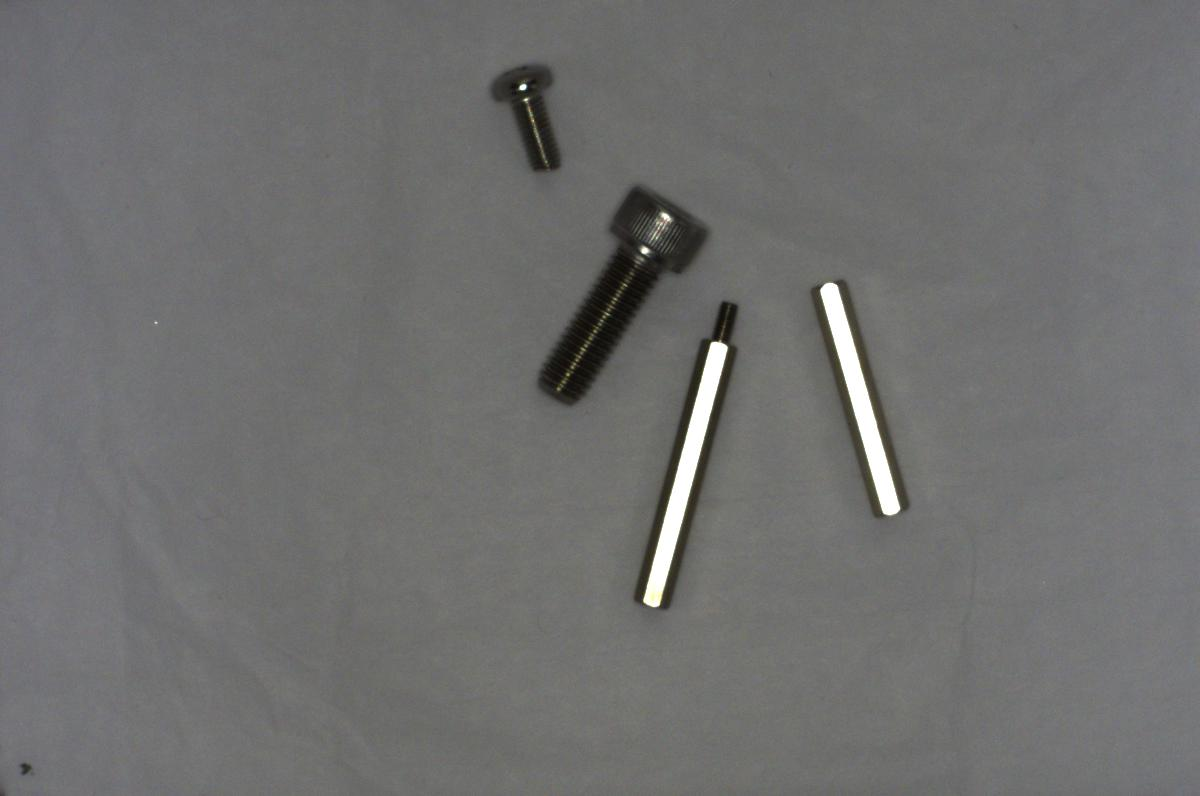Double hexagonal column: (801, 268, 912, 522)
Hexagon screw: (530, 179, 713, 405)
Hexagonal steel column: (633, 287, 740, 614)
Round head screw: (487, 58, 568, 176)
